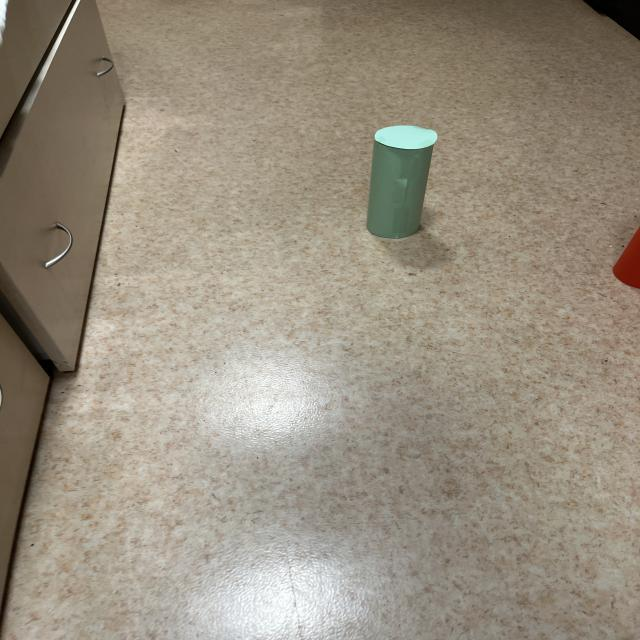meta: (366, 126, 437, 238)
